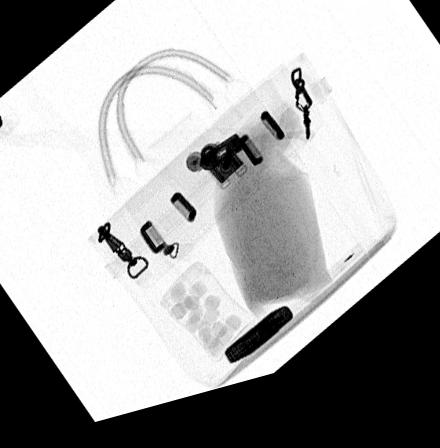Lighter: (223, 321, 292, 378)
